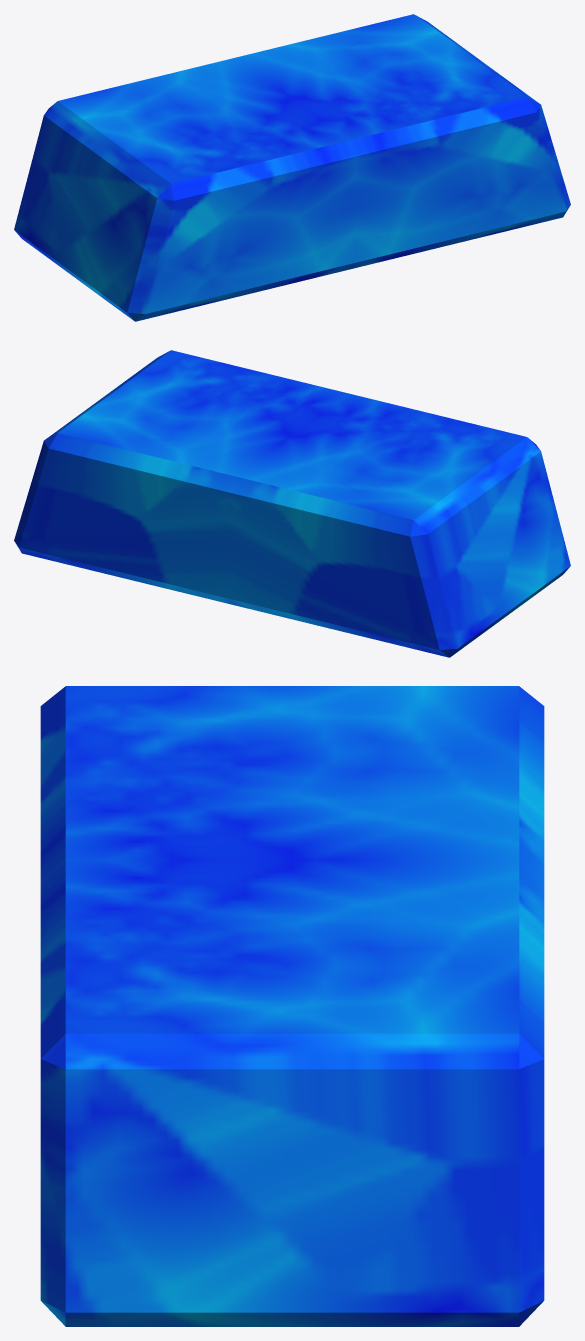
File: MetalIngot.fbx
3 renders of one model, top to bottom at view 1: azimuth 30°, elevation 25°; view 2: azimuth 150°, elevation 25°; view 3: azimuth 270°, elevation 25°, orthographic. The views are drawn at different scales.
Visible parts, largest first — view 1: MetalIngot.001; view 2: MetalIngot.001; view 3: MetalIngot.001.
Boxes of the visible parts, left/top/right/bottom form: MetalIngot.001: left=14, top=14, right=570, bottom=321; MetalIngot.001: left=14, top=350, right=570, bottom=657; MetalIngot.001: left=40, top=686, right=544, bottom=1326.
Size of the model in its own units: 190 by 52.86 by 93.51.
